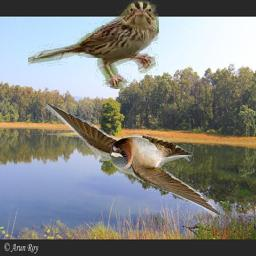Sparrow: (28, 0, 160, 89)
Swallow: (45, 104, 223, 220)
